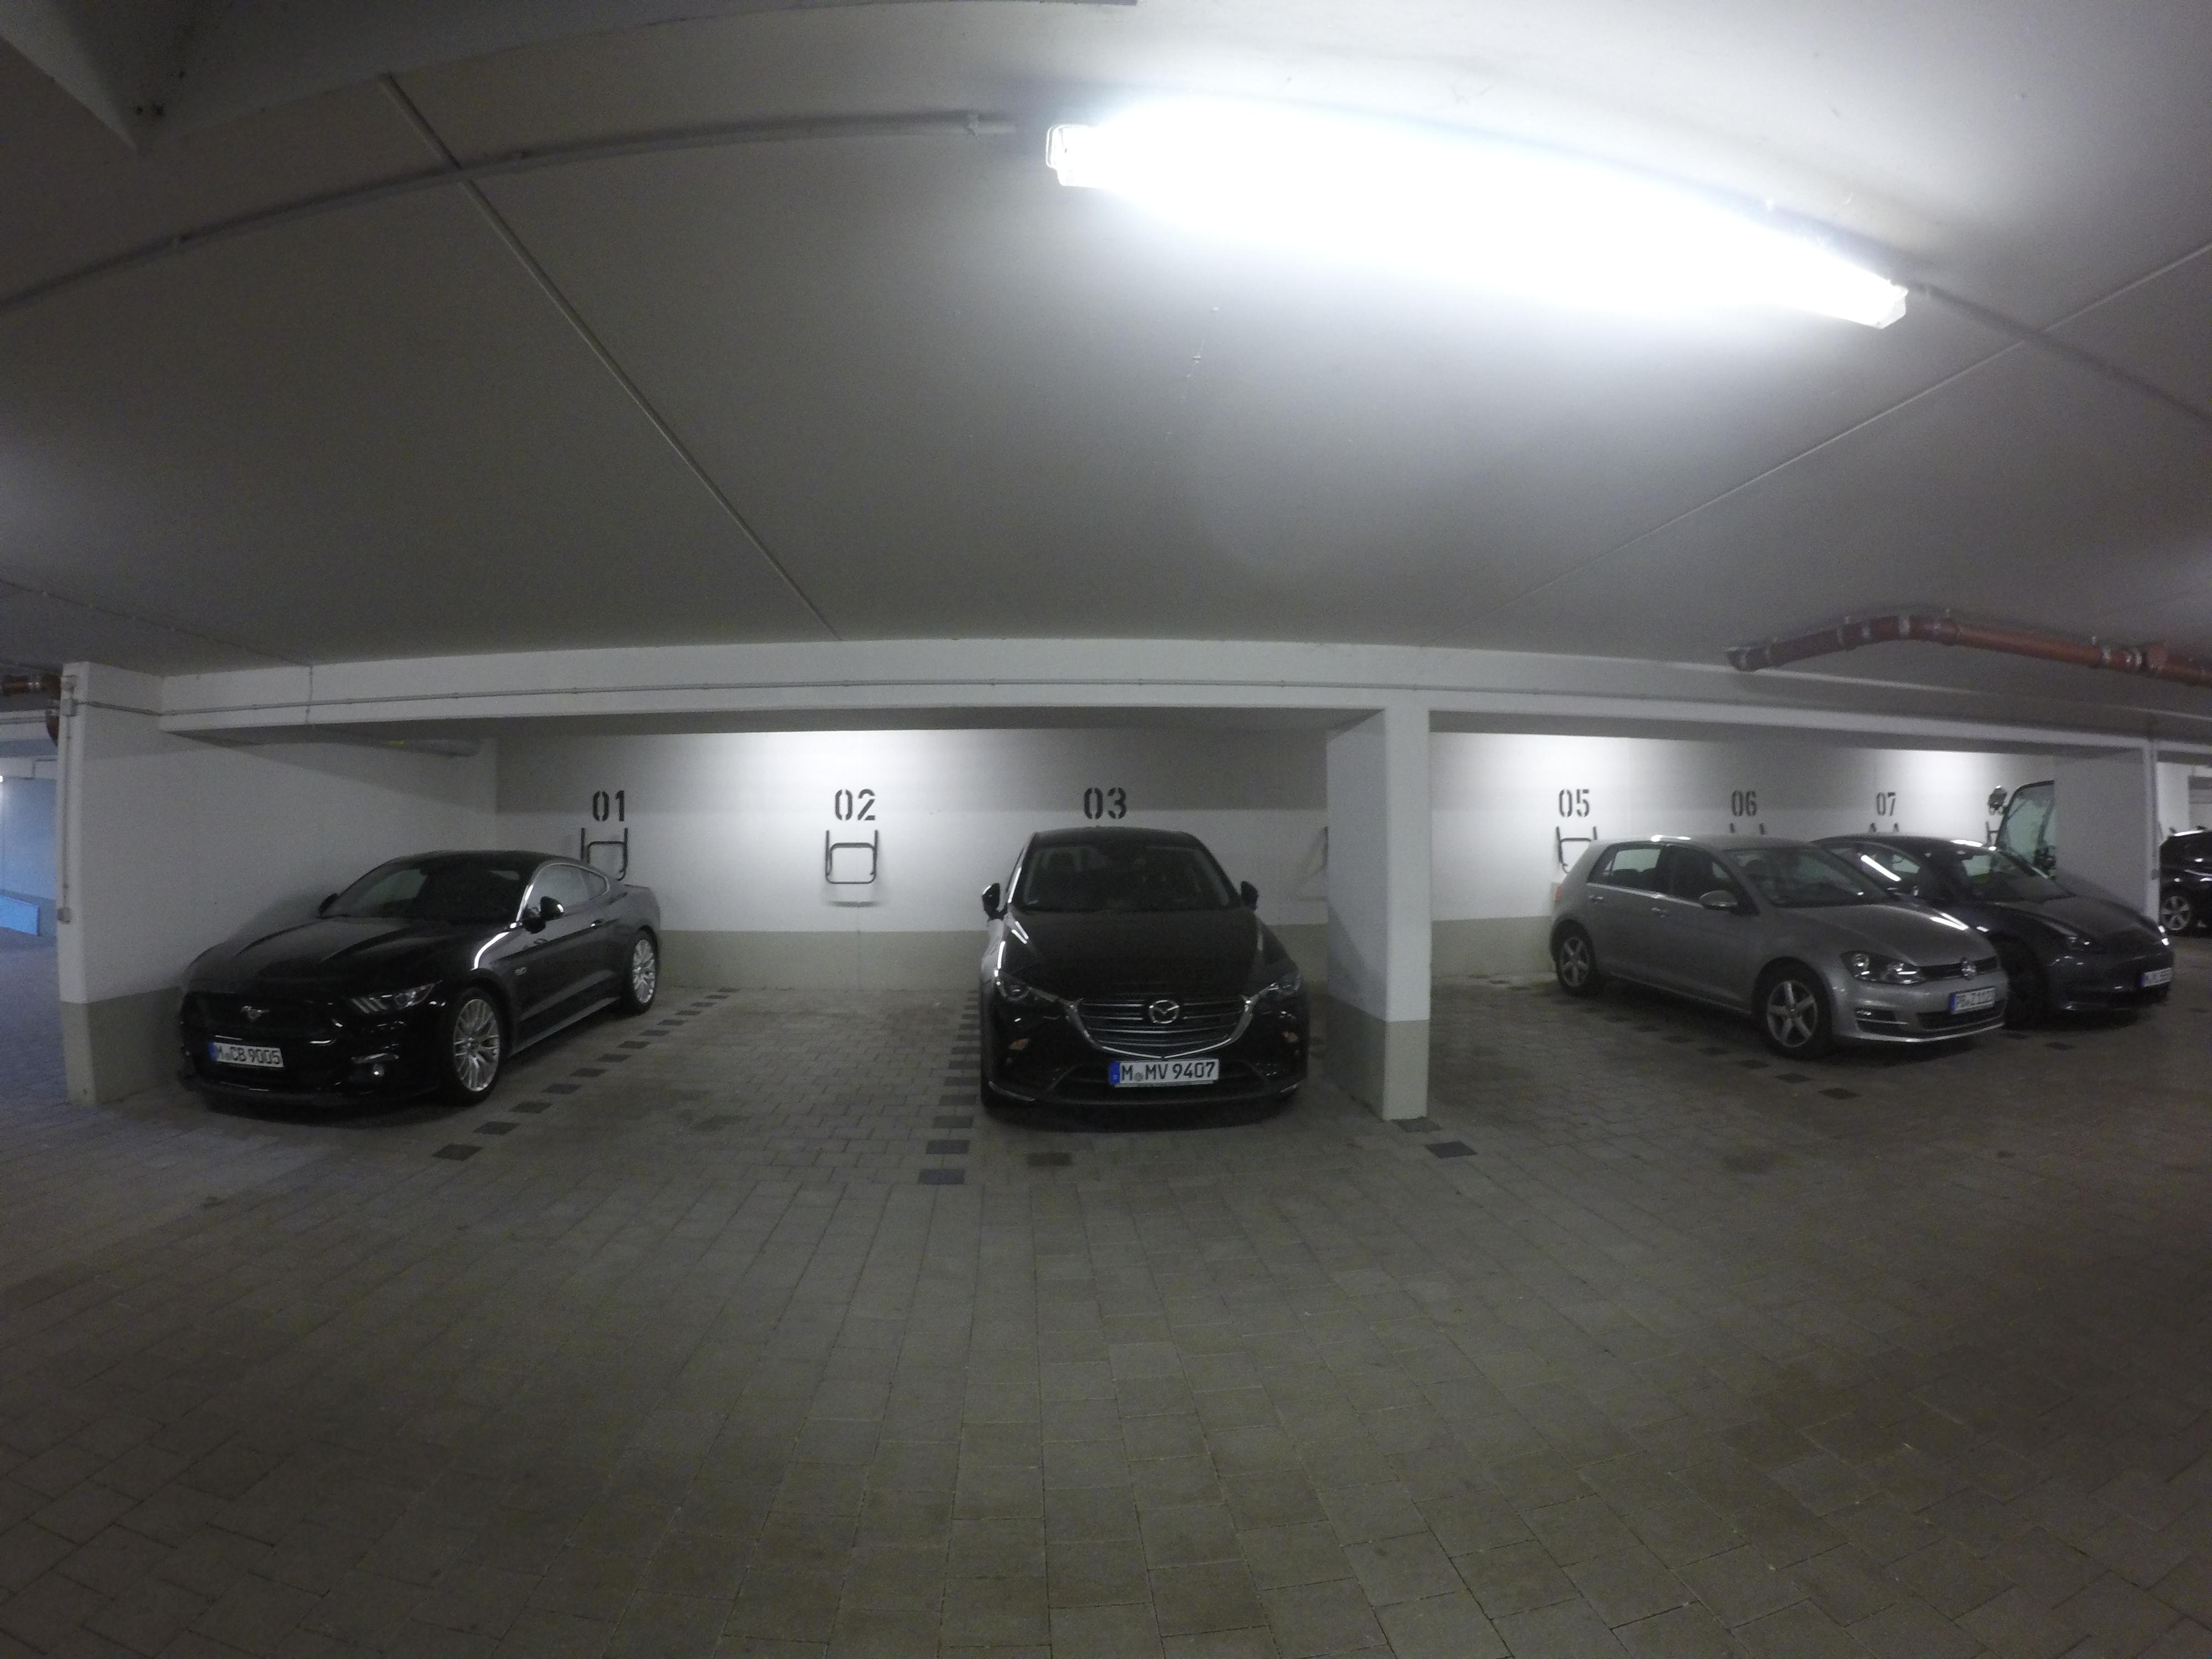0: (1194, 1062, 1205, 1078), (255, 1048, 264, 1063), (264, 1050, 272, 1064)
1: (1981, 991, 1985, 1003), (1977, 992, 1981, 1004)
2: (1986, 990, 1990, 1003)
3: (1990, 990, 1994, 1002)
4: (1183, 1062, 1194, 1079)
5: (272, 1050, 280, 1065)
7: (1205, 1061, 1215, 1078)
9: (1172, 1063, 1183, 1079), (247, 1048, 255, 1063)
B: (237, 1046, 246, 1062), (1960, 995, 1965, 1007)
C: (229, 1046, 239, 1061)
M: (1121, 1064, 1133, 1081), (1145, 1064, 1156, 1080), (215, 1045, 225, 1060)
P: (1955, 995, 1960, 1008)
V: (1157, 1062, 1168, 1080)
Z: (1971, 993, 1975, 1005)
